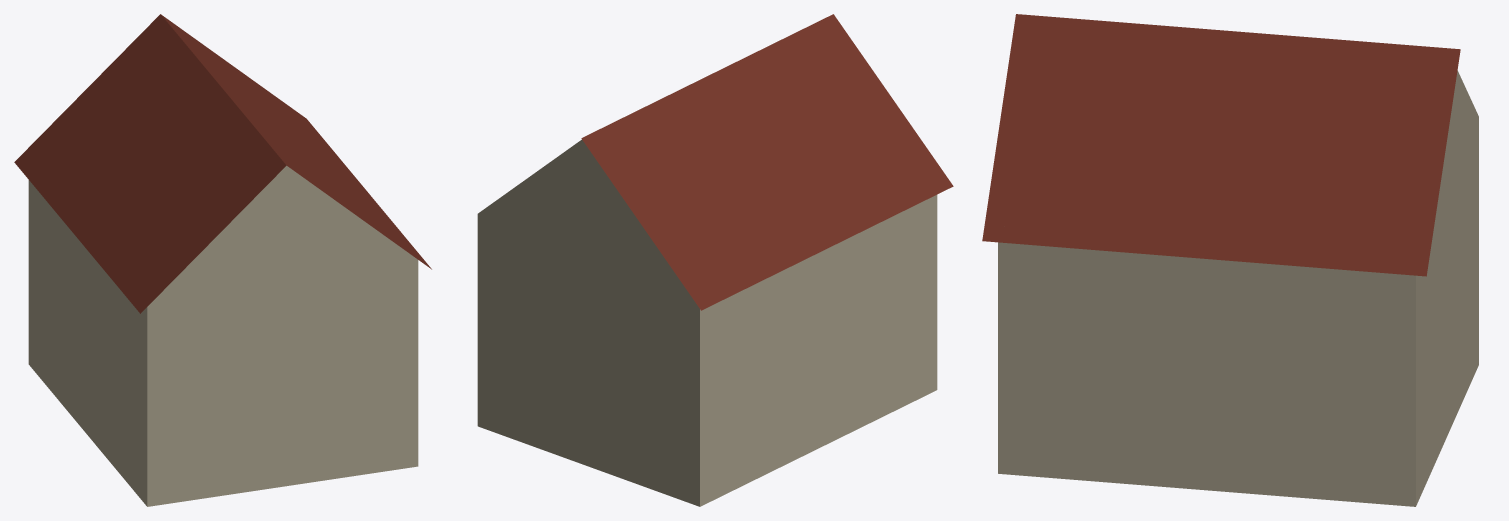
3 renders of one model, left to right at view 1: azimuth 30°, elevation 25°; view 2: azimuth 150°, elevation 25°; view 3: azimuth 270°, elevation 25°, orthographic. The views are drawn at different scales.
Parts seen in each view (by area): view 1: buildings; view 2: buildings; view 3: buildings.
Part boxes in pixels (<box>): buildings: <box>14,14,431,506</box>; buildings: <box>477,14,953,506</box>; buildings: <box>982,14,1478,506</box>.
Size of the model in its own units: 9.95 by 9.53 by 11.42.
